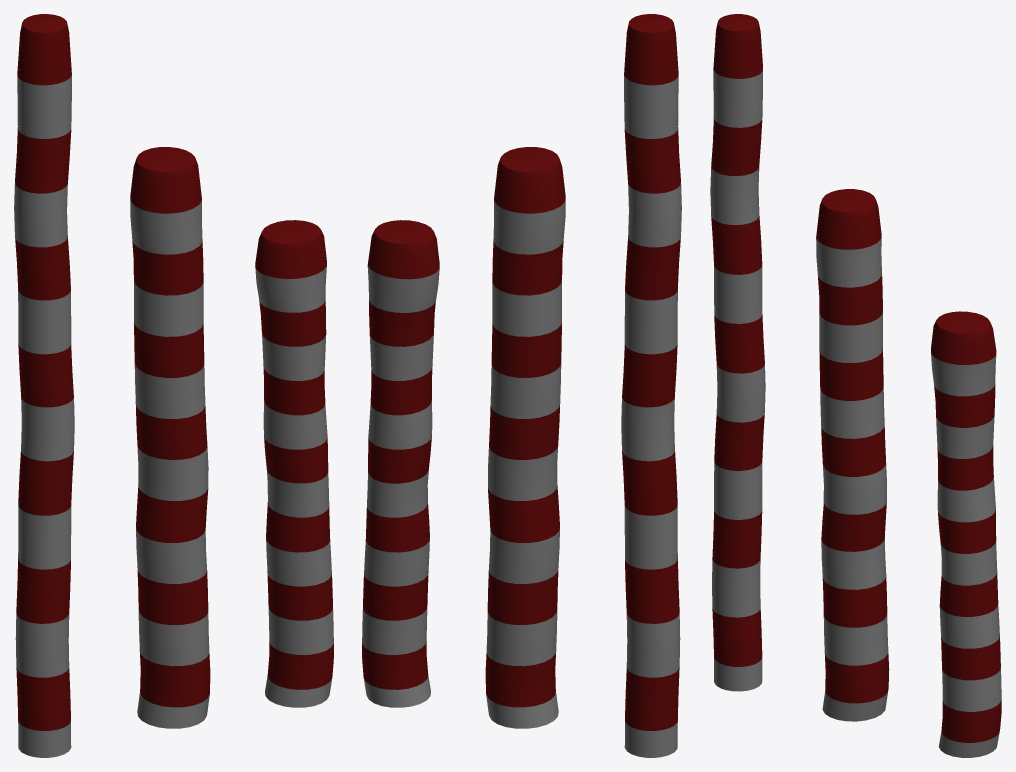
The model's file is stick.obj.
3 renders of one model, left to right at view 1: azimuth 30°, elevation 25°; view 2: azimuth 150°, elevation 25°; view 3: azimuth 330°, elevation 25°, orthographic. The views are drawn at different scales.
Parts seen in each view (by area): view 1: sticker:polySurface40, sticker:polySurface17, sticker:polySurface27, sticker:polySurface25, sticker:polySurface48, sticker:polySurface45; view 2: sticker:polySurface40, sticker:polySurface17, sticker:polySurface27, sticker:polySurface25, sticker:polySurface48, sticker:polySurface45; view 3: sticker:polySurface40, sticker:polySurface17, sticker:polySurface27, sticker:polySurface25, sticker:polySurface48, sticker:polySurface45.
Boxes of the visible parts, x1,y1,x2,y2 form: sticker:polySurface40: (130,147,210,707); sticker:polySurface17: (15,14,73,730); sticker:polySurface27: (130,199,209,728); sticker:polySurface25: (14,75,74,757); sticker:polySurface48: (255,220,333,689); sticker:polySurface45: (255,266,333,707); sticker:polySurface40: (485,147,565,707); sticker:polySurface17: (622,14,680,730); sticker:polySurface27: (486,199,565,728); sticker:polySurface25: (621,75,681,757); sticker:polySurface48: (362,220,439,689); sticker:polySurface45: (362,266,439,707); sticker:polySurface40: (816,189,889,703); sticker:polySurface17: (711,14,764,666); sticker:polySurface27: (816,236,888,721); sticker:polySurface25: (710,70,765,691); sticker:polySurface48: (931,311,1001,742); sticker:polySurface45: (931,353,1001,757).
Size of the model in its own units: 6.23 by 14.04 by 1.26.
